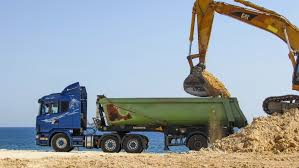excavator: (190, 0, 298, 116)
truck: (36, 80, 248, 154)
